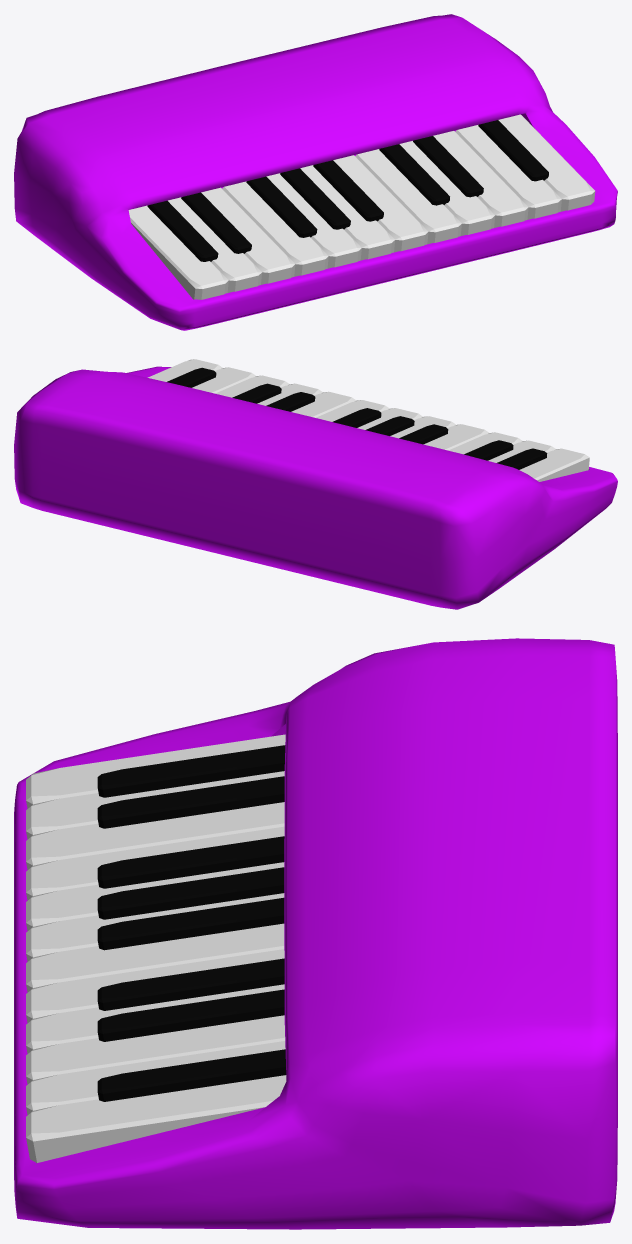
Rendered from piano.fbx.
3 views of the same model, one above another, from view 1: azimuth 30°, elevation 25°; view 2: azimuth 150°, elevation 25°; view 3: azimuth 270°, elevation 25° (orthographic). The views are drawn at different scales.
Parts seen in each view (by area): view 1: polySurface47; view 2: polySurface47; view 3: polySurface47.
Boxes of the visible parts, x1,y1,x2,y2 form: polySurface47: (14,14,617,330); polySurface47: (14,359,617,609); polySurface47: (14,638,617,1229).
Bounding box in the file's own units: 5.07 × 1.07 × 2.99.
